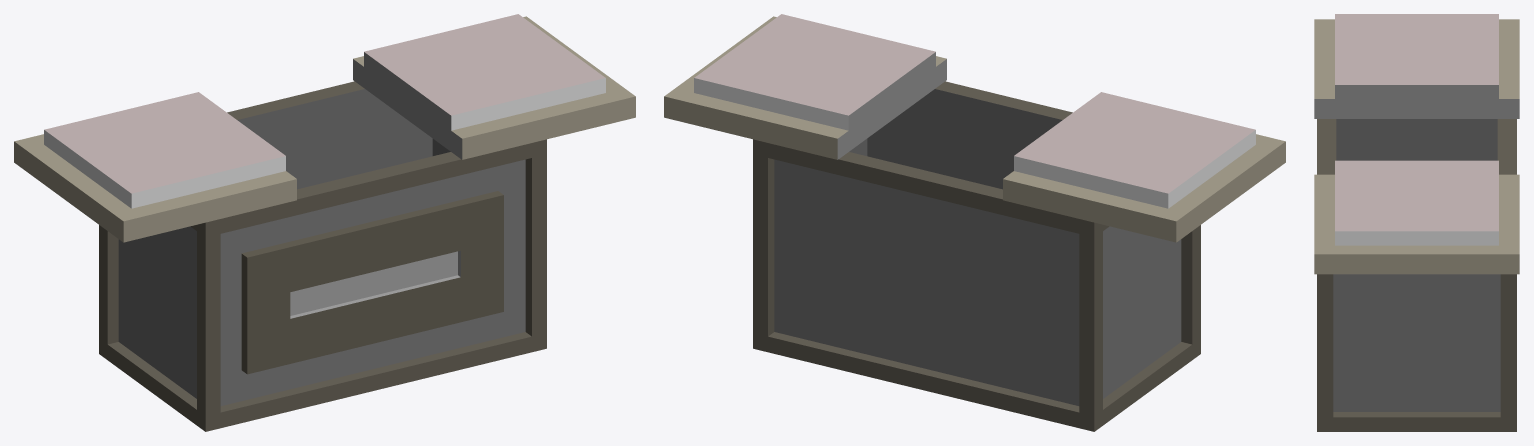
Rendered from treasureChestOpen.glb.
3 views of the same model, side by side, from view 1: azimuth 30°, elevation 25°; view 2: azimuth 150°, elevation 25°; view 3: azimuth 270°, elevation 25° (orthographic). The views are drawn at different scales.
Visible parts, largest first — view 1: treasure chest open; view 2: treasure chest open; view 3: treasure chest open.
Boxes of the visible parts, x1,y1,x2,y2 form: treasure chest open: (14, 14, 635, 431); treasure chest open: (664, 14, 1285, 431); treasure chest open: (1314, 14, 1519, 431).
Size of the model in its own units: 5.55 by 2.56 by 2.05.
